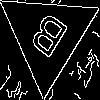B: (23, 10, 70, 67)
